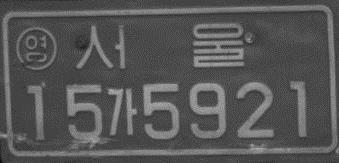1: (22, 82, 49, 144), (288, 78, 310, 139)
2: (234, 80, 276, 140)
5: (63, 81, 105, 144), (139, 81, 180, 141)
9: (189, 82, 228, 140)
가: (104, 85, 138, 139)
서울_D: (73, 19, 246, 72)
영: (15, 26, 58, 70)
